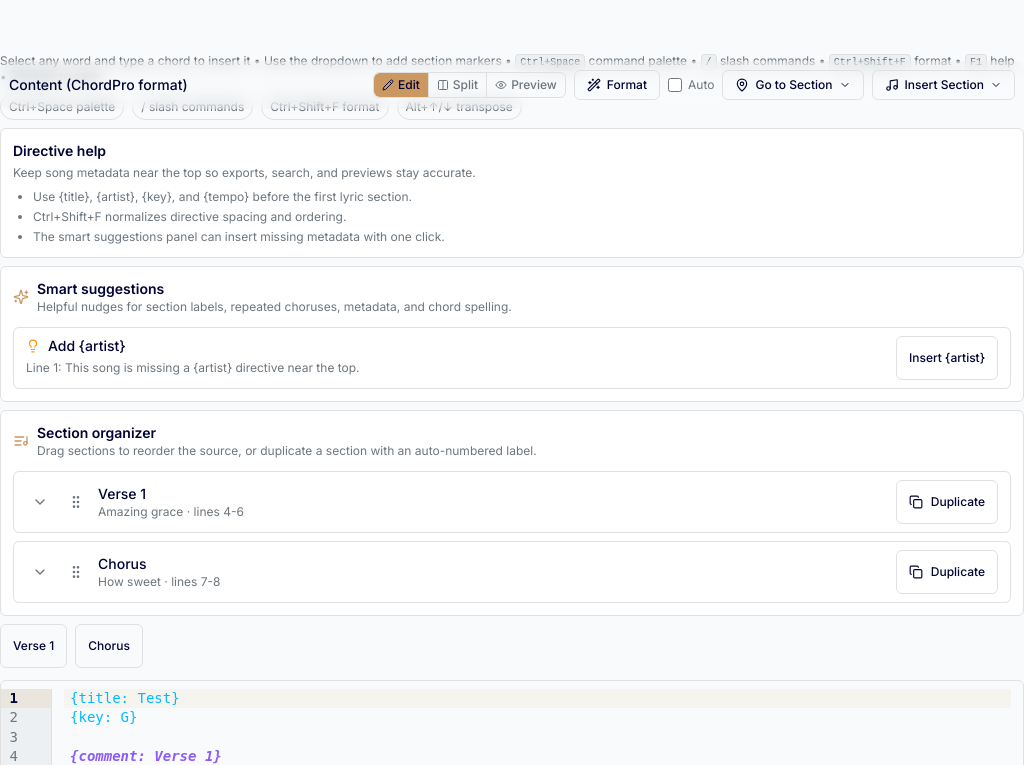
Test: ChordProEditor — Phase 2 features › split preview › shows preview pane in split mode
Click the button with test id "view-mode-split" at (457, 85), box [428,73,487,97]
(page scrolled)
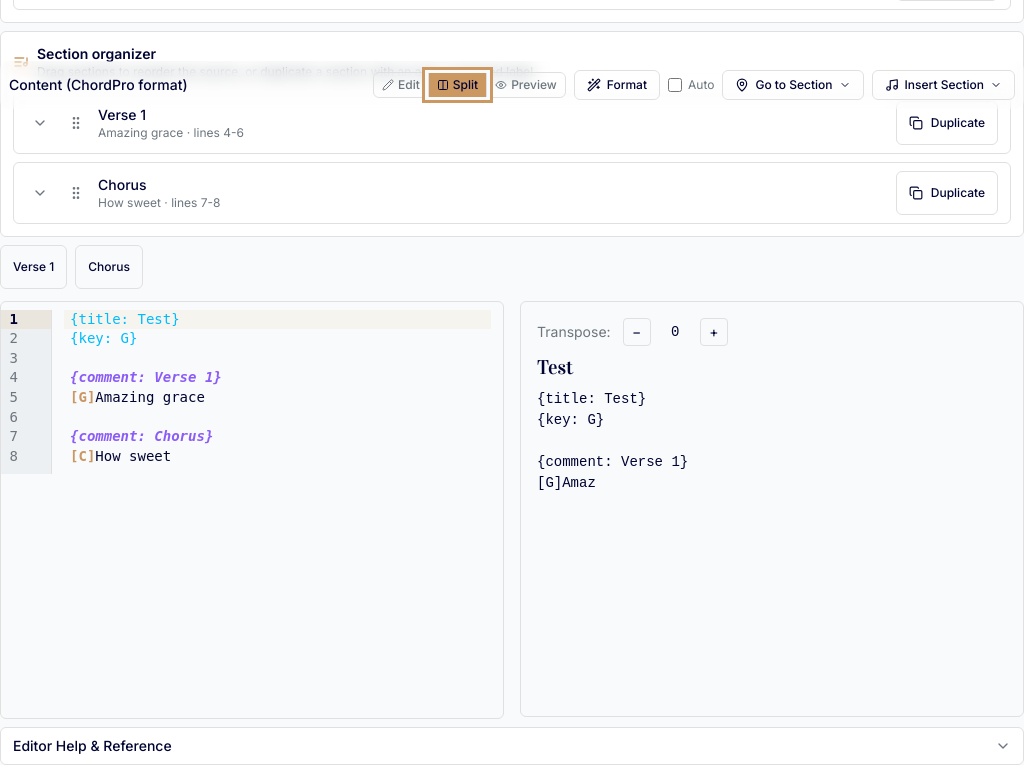
Expected: the field with test id "chordpro-editor" is shown, [52,310,503,474]
Expected: the element with test id "split-preview-pane" is shown, [520,301,1023,717]
